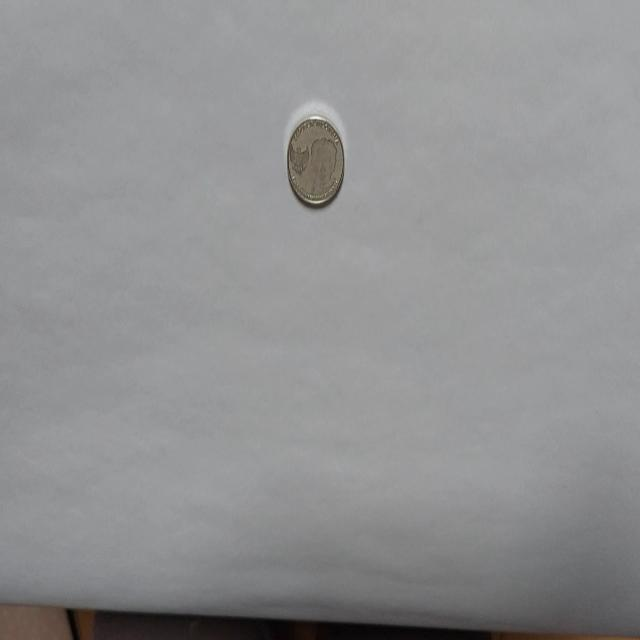seratus rupiah: (286, 113, 344, 207)
